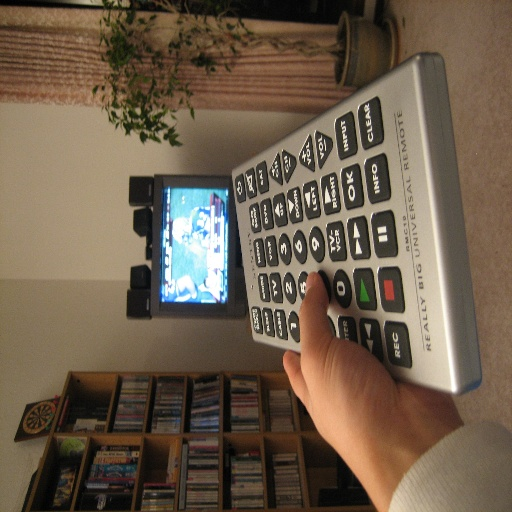hand: (277, 301, 410, 466)
